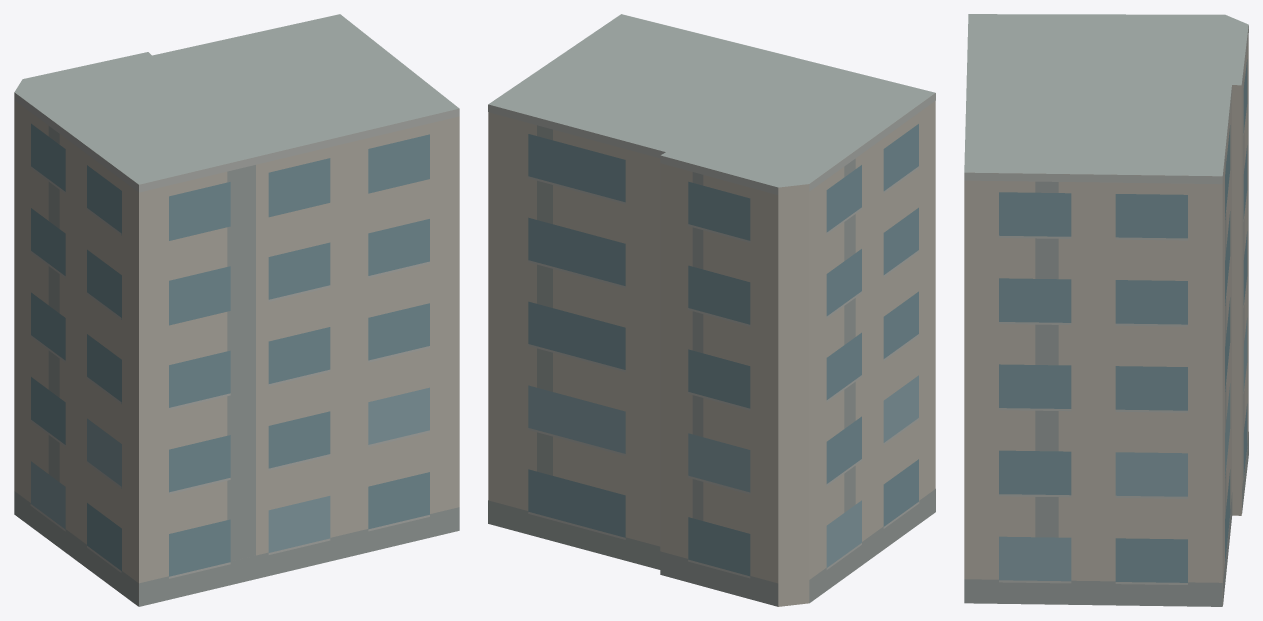
Rendered from survey-upis-32631522.glb.
The picture shows the model from 3 angles, left to right: view 1: azimuth 30°, elevation 25°; view 2: azimuth 150°, elevation 25°; view 3: azimuth 270°, elevation 25°; orthographic projection. The views are drawn at different scales.
Parts seen in each view (by area): view 1: survey-upis-32631522.tmp; view 2: survey-upis-32631522.tmp; view 3: survey-upis-32631522.tmp.
Part boxes in pixels (left/top/right/bottom): survey-upis-32631522.tmp: left=14, top=14, right=459, bottom=606; survey-upis-32631522.tmp: left=488, top=14, right=935, bottom=606; survey-upis-32631522.tmp: left=964, top=14, right=1248, bottom=606.
Size of the model in its own units: 10.68 by 13.2 by 7.91.
